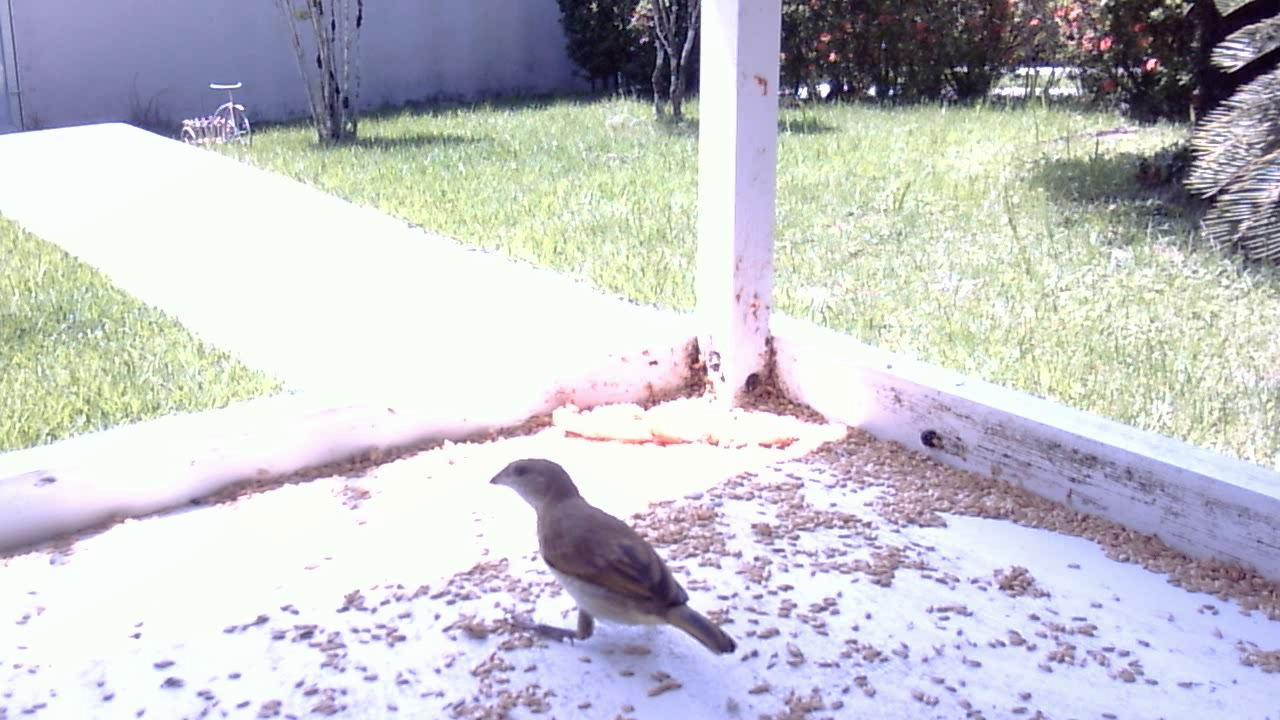canario_do_amazonas: (485, 450, 742, 663)
